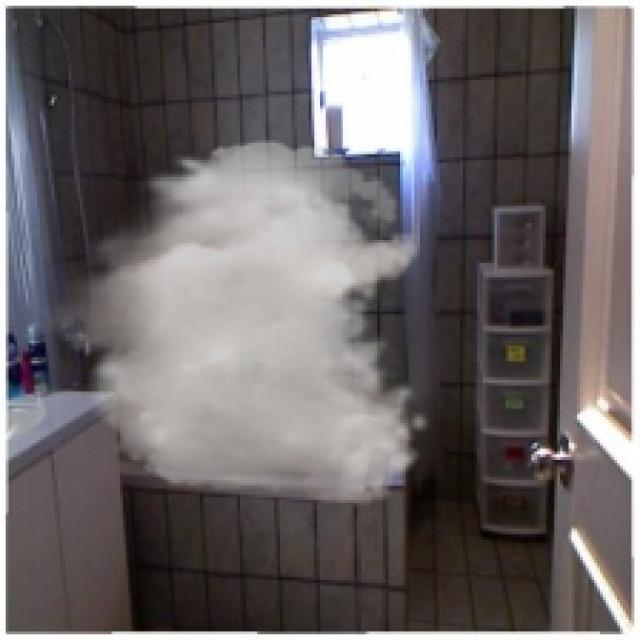Smoke: (37, 140, 434, 506)
